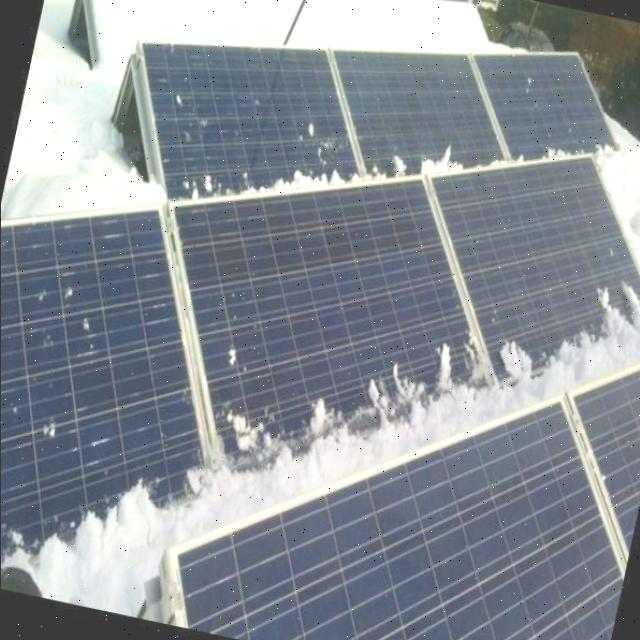Anomaly Solar Panel: (170, 174, 501, 534), (0, 205, 211, 594), (429, 153, 640, 422), (139, 43, 359, 204), (328, 49, 503, 181), (469, 51, 618, 166)
Normal Solar Panel: (176, 371, 640, 640)
Snow: (24, 311, 640, 595), (164, 134, 614, 205)
